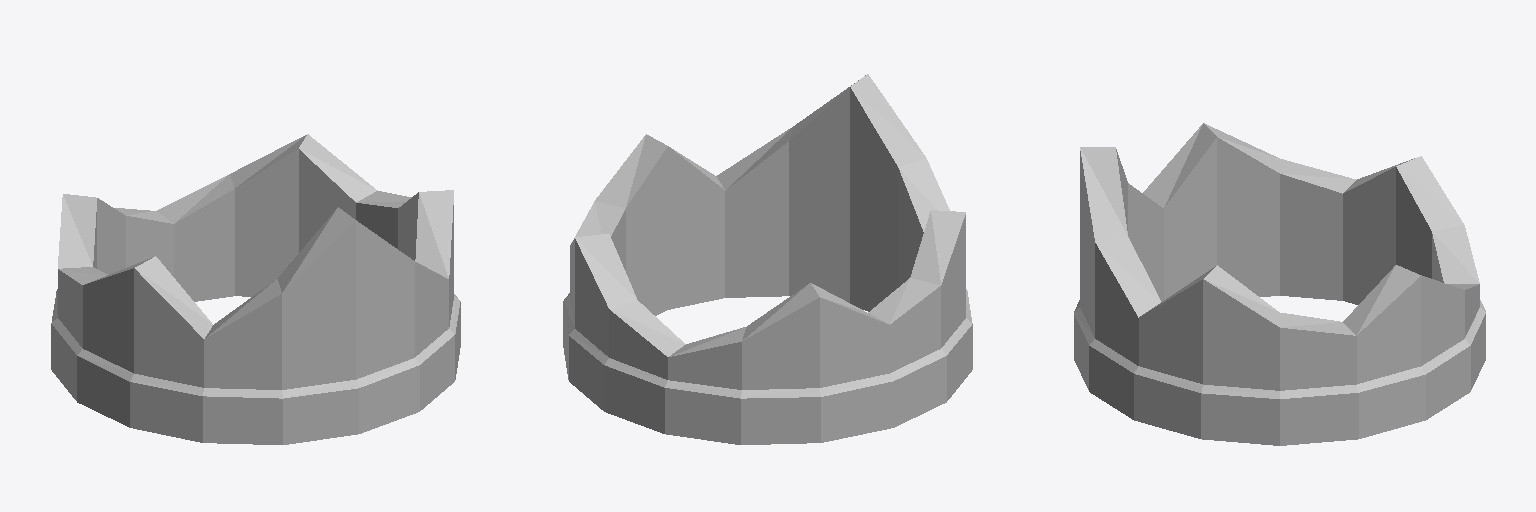
File: Crown_LowPoly.obj
The picture shows the model from 3 angles: view 1: azimuth 30°, elevation 25°; view 2: azimuth 150°, elevation 25°; view 3: azimuth 270°, elevation 25°; orthographic projection.
Visible parts, largest first — view 1: Cylinder.027; view 2: Cylinder.027; view 3: Cylinder.027.
Part boxes in pixels (left/top/right/bottom): Cylinder.027: left=51, top=134, right=460, bottom=444; Cylinder.027: left=563, top=74, right=972, bottom=444; Cylinder.027: left=1074, top=123, right=1485, bottom=445.
Size of the model in its own units: 0.3229 by 0.1884 by 0.3229.